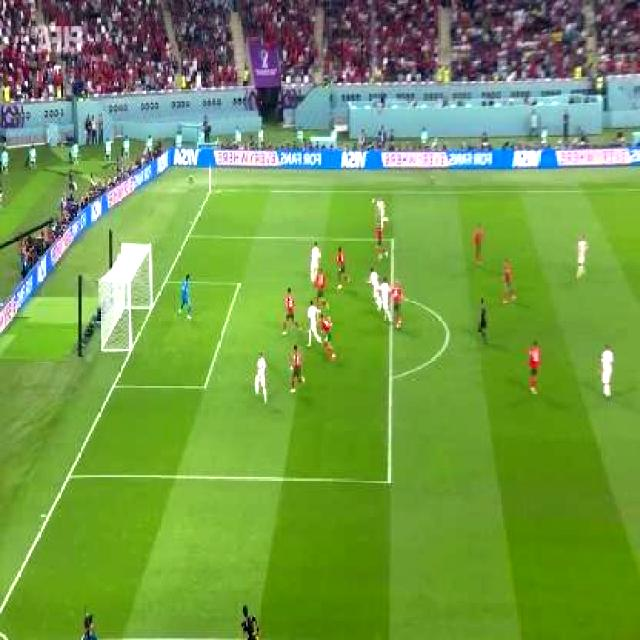bigarea_bottom_inner: (380, 468, 400, 492)
bigarea_bottom_outter: (62, 463, 78, 486)
bigarea_top_inner: (388, 230, 400, 248)
bigarea_top_outter: (183, 228, 197, 243)
bottom_arc_area_intersection: (384, 366, 402, 388)
corner: (205, 185, 220, 197)
smallarea_bottom_inner: (197, 369, 217, 400)
smallarea_bottom_outter: (106, 372, 125, 397)
smallarea_top_inner: (232, 272, 248, 292)
smallarea_top_outter: (158, 271, 174, 291)
